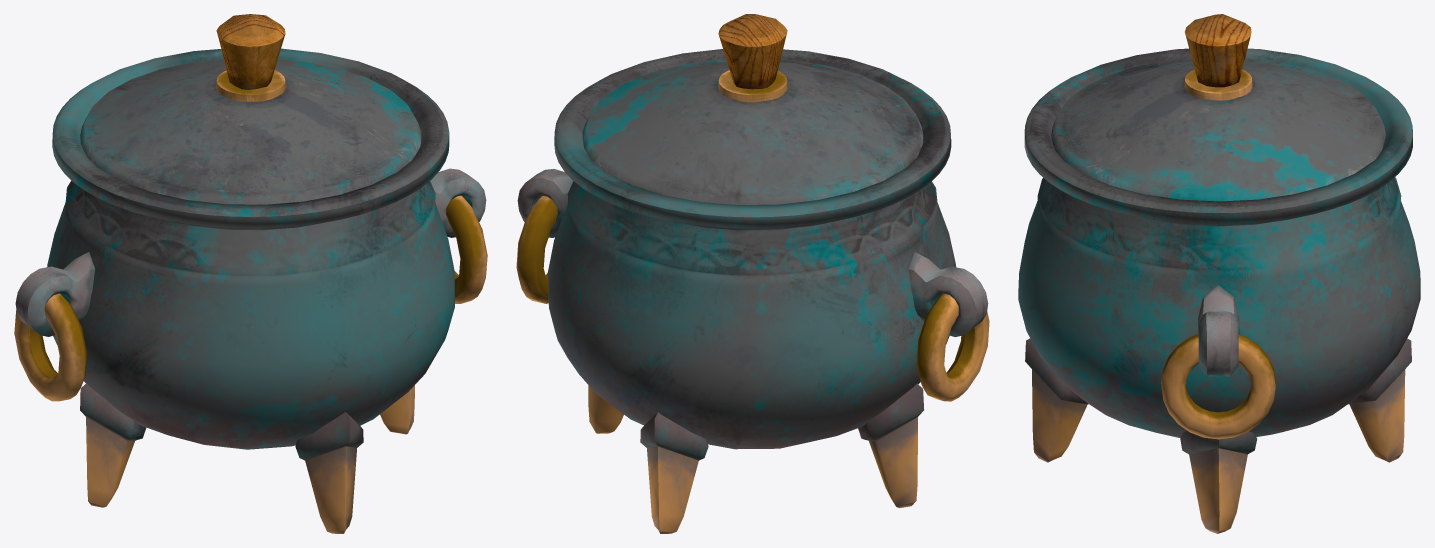
File: SM_Potion_Props_Pot_01_A.fbx
3 views of the same model, side by side, from view 1: azimuth 30°, elevation 25°; view 2: azimuth 150°, elevation 25°; view 3: azimuth 270°, elevation 25° (orthographic). The views are drawn at different scales.
Visible parts, largest first — view 1: SM_Potion_Props_Pot_01_A_LOD0; view 2: SM_Potion_Props_Pot_01_A_LOD0; view 3: SM_Potion_Props_Pot_01_A_LOD0.
Part boxes in pixels (bbox=[...]): SM_Potion_Props_Pot_01_A_LOD0: bbox=[14, 14, 487, 533]; SM_Potion_Props_Pot_01_A_LOD0: bbox=[516, 14, 989, 533]; SM_Potion_Props_Pot_01_A_LOD0: bbox=[1018, 14, 1420, 533].
Size of what is drawn, in the model's own units: 125 by 118 by 97.18.
